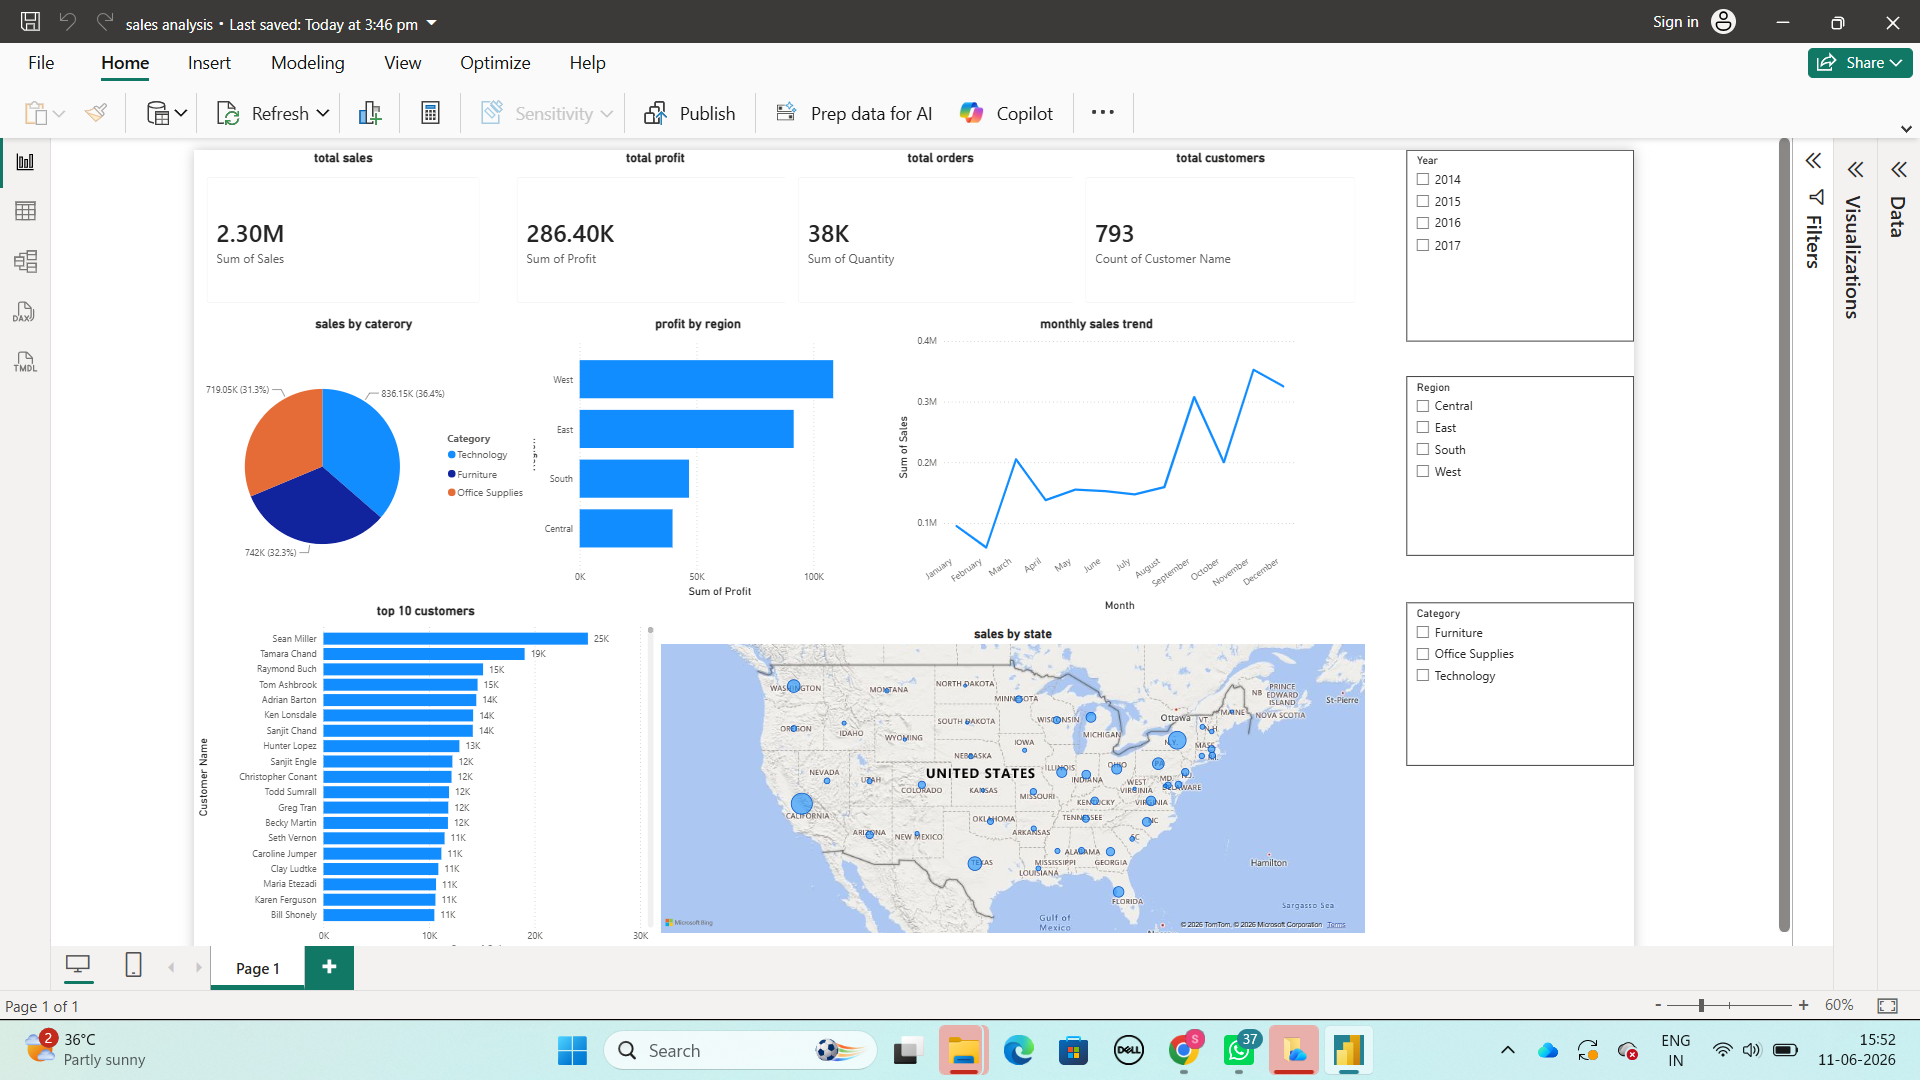

This screenshot's page, from the dashboard's own definition file:
{"tool":"powerbi","page":{"name":"Page 1","canvas":[1920,1080],"ordinal":0},"visuals":[{"type":"clusteredBarChart","title":"top 10 customers","fields":{"Category":["clean_superstore.Customer Name"],"Y":["Sum(clean_superstore.Sales)"]},"box":[0,603.6,618.2,476.4],"z":0},{"type":"barChart","title":"profit by region","fields":{"Category":["clean_superstore.Region"],"Y":["Sum(clean_superstore.Profit)"]},"box":[436.4,221.8,470.9,380],"z":1000},{"type":"pieChart","title":"sales by caterory","fields":{"Y":["Sum(clean_superstore.Sales)"],"Category":["clean_superstore.Category"]},"box":[0,221.8,452.7,381.8],"z":2000},{"type":"map","title":"sales by state","fields":{"Category":["clean_superstore.State"],"Size":["Sum(clean_superstore.Sales)"]},"box":[618.2,634.5,947.3,414.5],"z":3000},{"type":"lineChart","title":"monthly sales trend","fields":{"Category":["clean_superstore.Order Date.Variation.Date Hierarchy.Month"],"Y":["Sum(clean_superstore.Sales)"]},"box":[932.7,221.8,540,398.2],"z":4000},{"type":"slicer","fields":{"Values":["clean_superstore.Order Date.Variation.Date Hierarchy.Year"]},"box":[1616.1,0,303.6,255.4],"z":5000},{"type":"slicer","fields":{"Values":["clean_superstore.Region"]},"box":[1616.1,301.8,303.6,239.3],"z":6000},{"type":"slicer","fields":{"Values":["clean_superstore.Category"]},"box":[1616.1,603.6,303.6,217.9],"z":7000},{"type":"cardVisual","title":"total sales","fields":{"Data":["Sum(clean_superstore.Sales)"]},"box":[0,0,398.2,221.8],"z":8000},{"type":"cardVisual","title":"total profit","fields":{"Data":["Sum(clean_superstore.Profit)"]},"box":[412.7,0,403.6,221.8],"z":9000},{"type":"cardVisual","title":"total orders","fields":{"Data":["Sum(clean_superstore.Quantity)"]},"box":[789.1,0,414.5,221.8],"z":10000},{"type":"cardVisual","title":"total customers","fields":{"Data":["Count(clean_superstore.Customer Name)"]},"box":[1170.9,0,394.5,221.8],"z":11000}]}

Visuals, with their boxes on the page's 1920x1080 design canvas (x1, y1, x2, y2). These are canvas units, not pixel positions in the 1920x1080 screenshot, which may show the page scaled, cropped or inside an application window:
"top 10 customers" clusteredBarChart: detection(0, 604, 618, 1080)
"profit by region" barChart: detection(436, 222, 907, 602)
"sales by caterory" pieChart: detection(0, 222, 453, 604)
"sales by state" map: detection(618, 634, 1566, 1049)
"monthly sales trend" lineChart: detection(933, 222, 1473, 620)
slicer - clean_superstore.Order Date.Variation.Date Hierarchy.Year: detection(1616, 0, 1920, 255)
slicer - clean_superstore.Region: detection(1616, 302, 1920, 541)
slicer - clean_superstore.Category: detection(1616, 604, 1920, 822)
"total sales" cardVisual: detection(0, 0, 398, 222)
"total profit" cardVisual: detection(413, 0, 816, 222)
"total orders" cardVisual: detection(789, 0, 1204, 222)
"total customers" cardVisual: detection(1171, 0, 1565, 222)
